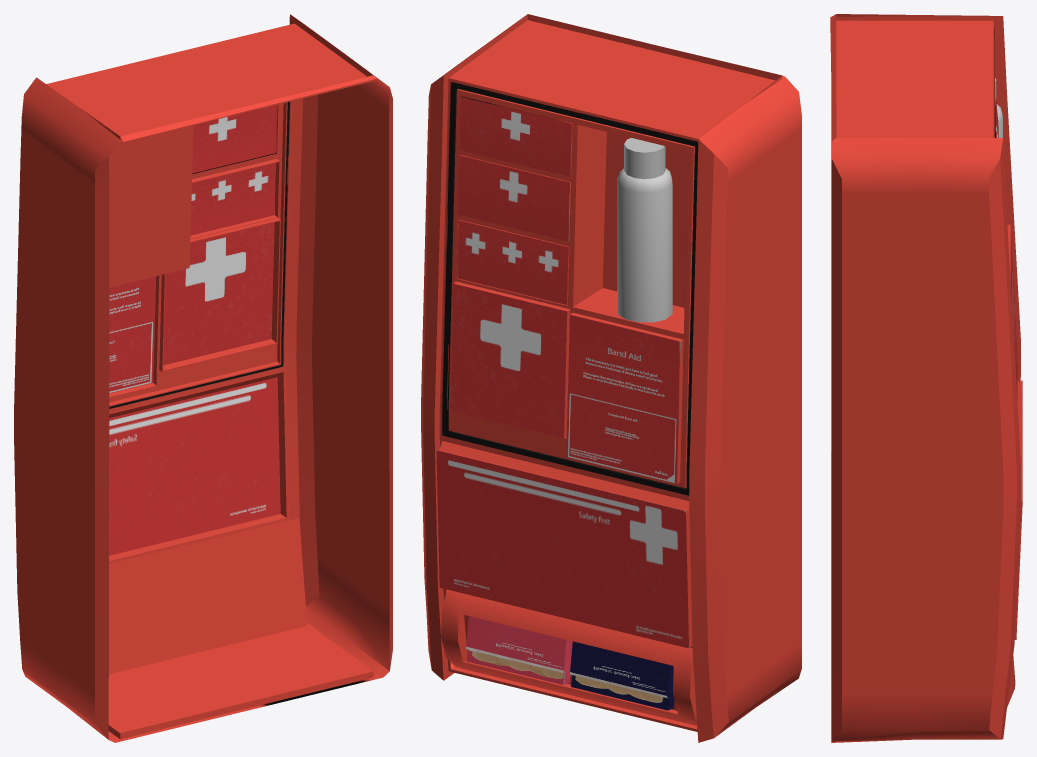
The model's file is FirstAidStation.fbx.
3 views of the same model, side by side, from view 1: azimuth 30°, elevation 25°; view 2: azimuth 150°, elevation 25°; view 3: azimuth 270°, elevation 25° (orthographic).
Visible parts, largest first — view 1: Cylinder.072; view 2: Cylinder.072, Cylinder.002; view 3: Cylinder.072.
Boxes of the visible parts, x1,y1,x2,y2 form: Cylinder.072: (14,14,392,742); Cylinder.072: (421,14,801,742); Cylinder.002: (617,138,672,322); Cylinder.072: (830,14,1022,742).
Size of the model in its own units: 0.29 by 0.1625 by 0.5606.
